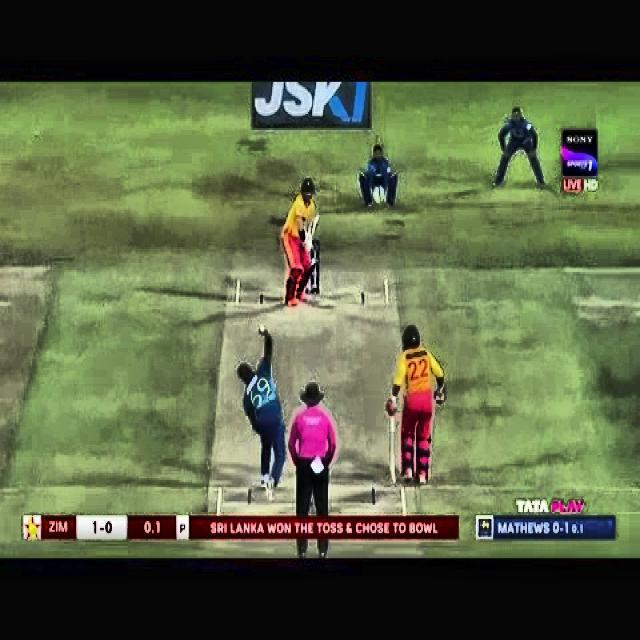Left-stump: (305, 286, 308, 291)
Middle-stump: (311, 278, 314, 292)
Right-stump: (316, 267, 318, 292)
